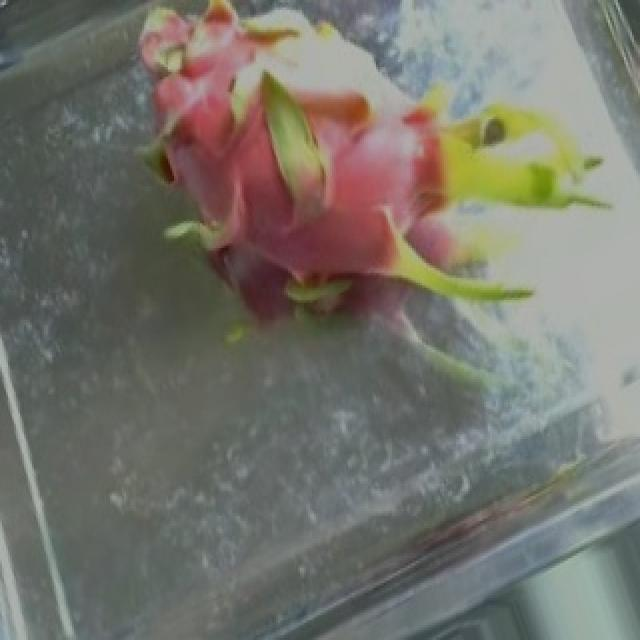fruit: (204, 2, 632, 459)
